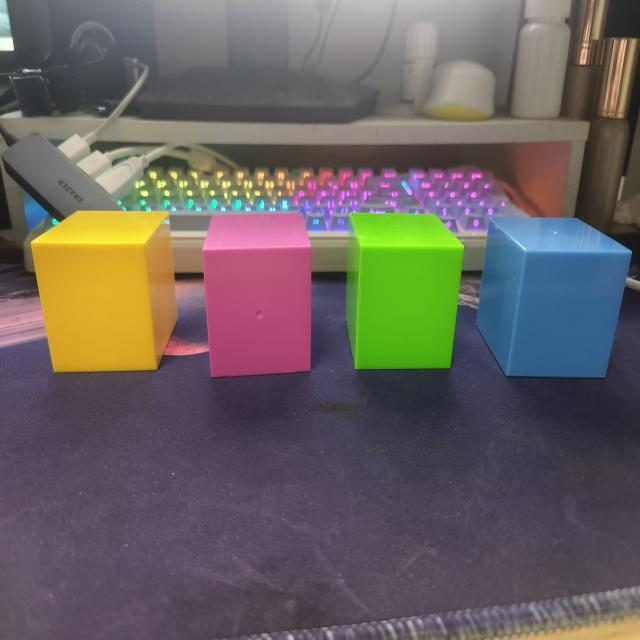blue: (477, 214, 632, 382)
green: (346, 213, 465, 373)
pink: (201, 213, 313, 380)
yellow: (29, 211, 176, 376)
